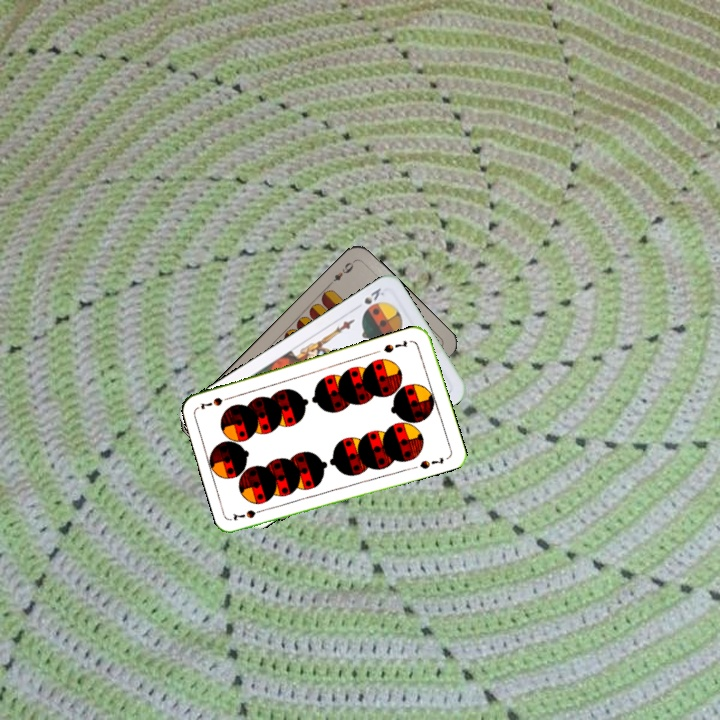E9: (325, 256, 357, 288)
S7: (229, 504, 269, 523), (380, 336, 410, 355)
SK: (360, 284, 387, 314)
